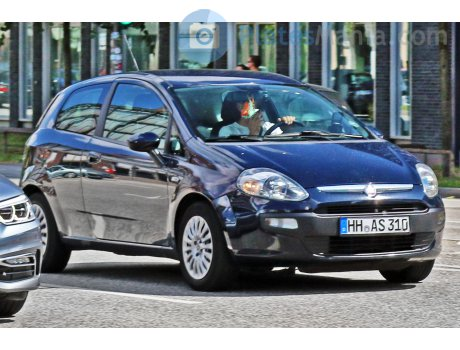License Plates: (348, 218, 405, 228)
